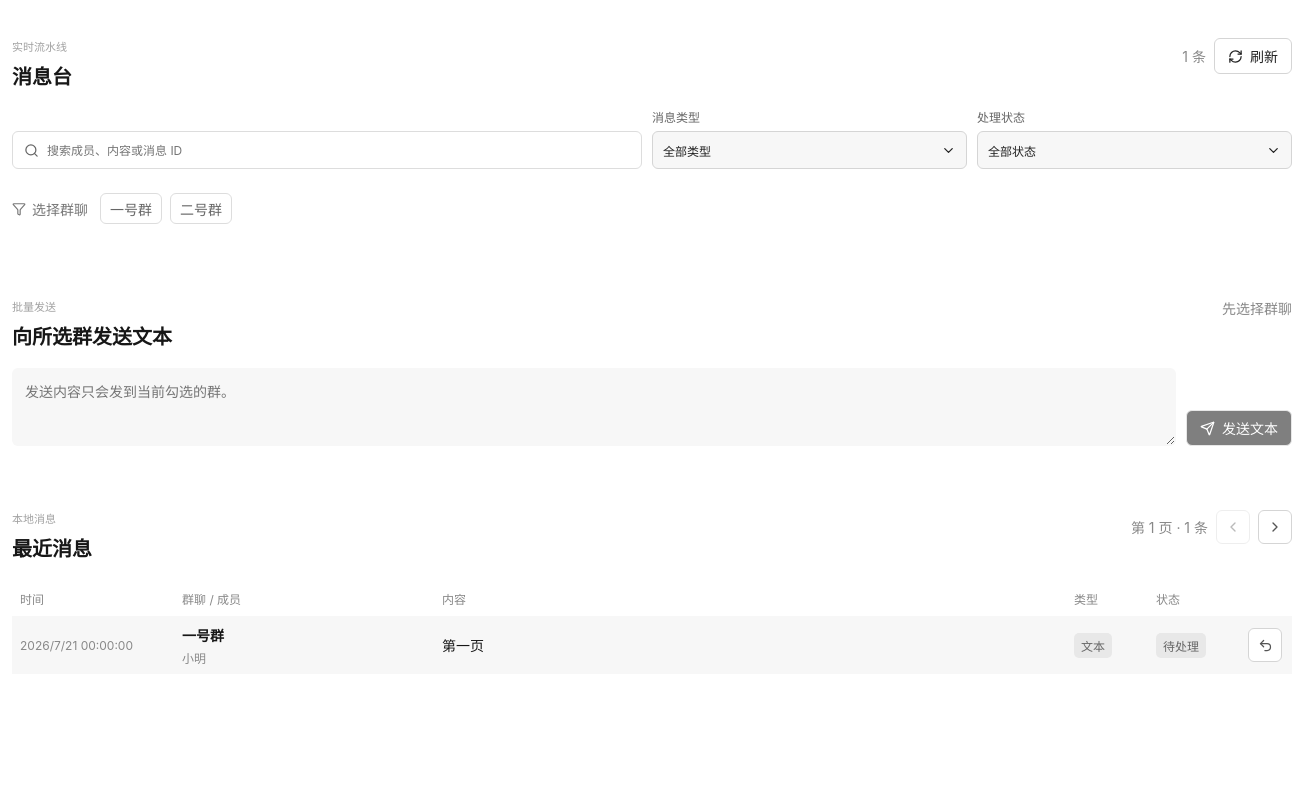
Test: MessagesPage › uses backend cursors for the next and previous page
Check: the text "第一页" is shown, box [442,637,484,654]
What coordinates should you click on to do the following:
click the button titled "下一页"
I would click on:
 (1275, 527)
Its box is [1258,510,1292,544].
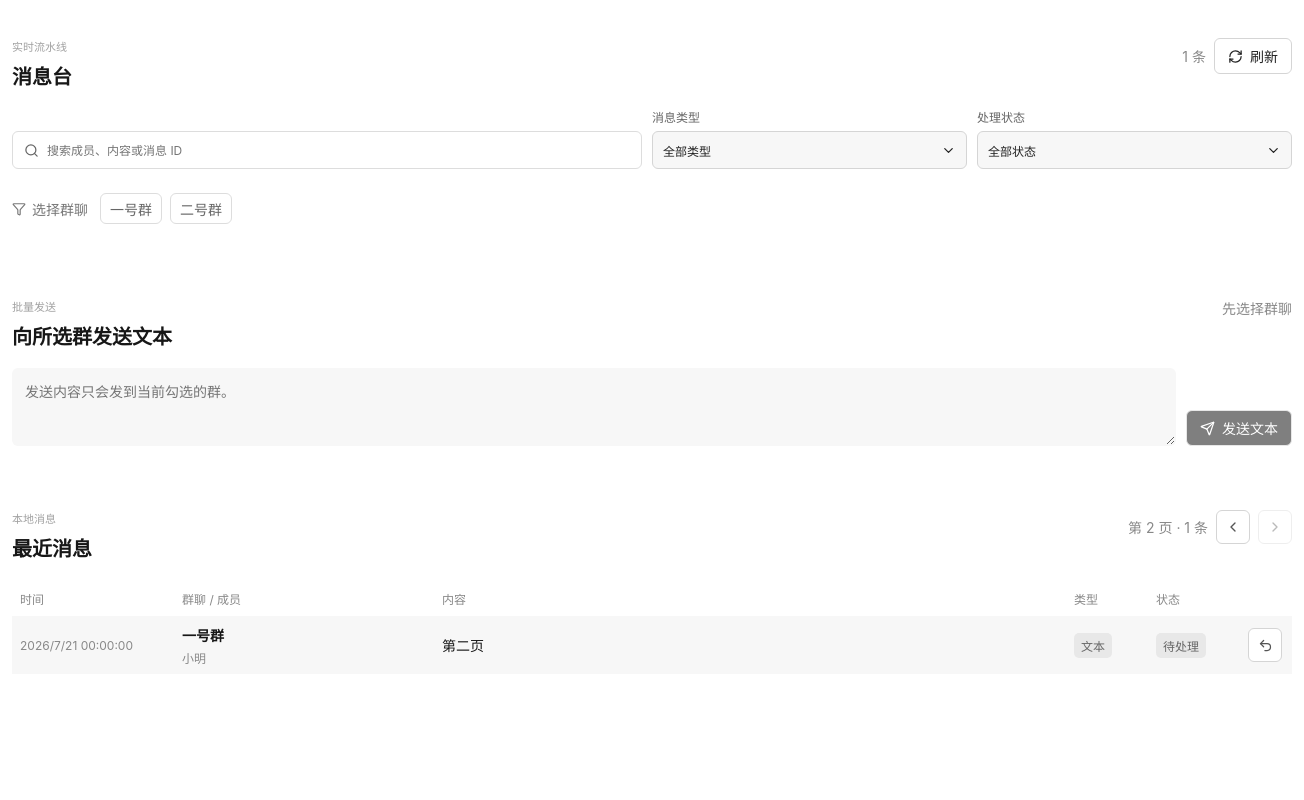
Check: the text "第二页" is shown, box [442,637,484,654]
What coordinates should you click on to do the following:
click the button titled "上一页"
I would click on:
 (1233, 527)
Its box is [1216,510,1250,544].
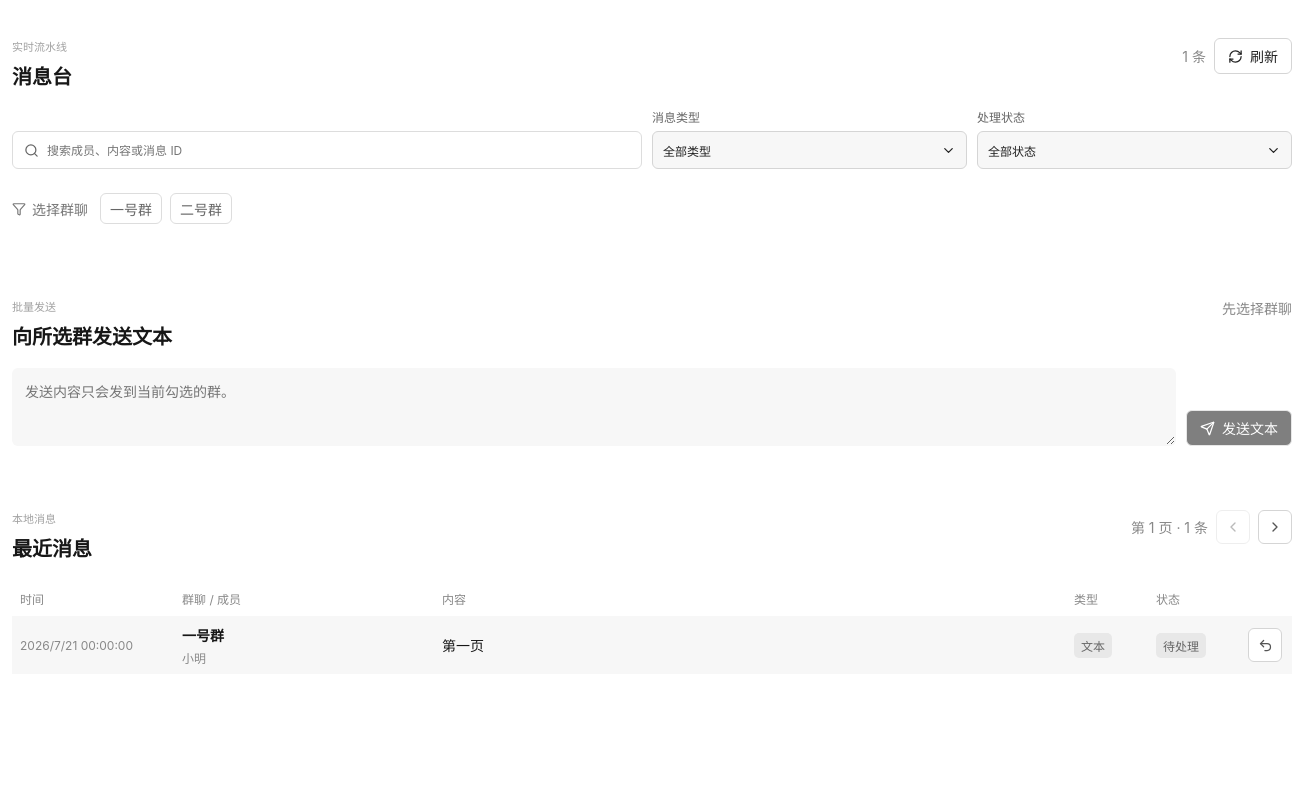
Check: the text "第一页" is shown, box [442,637,484,654]
